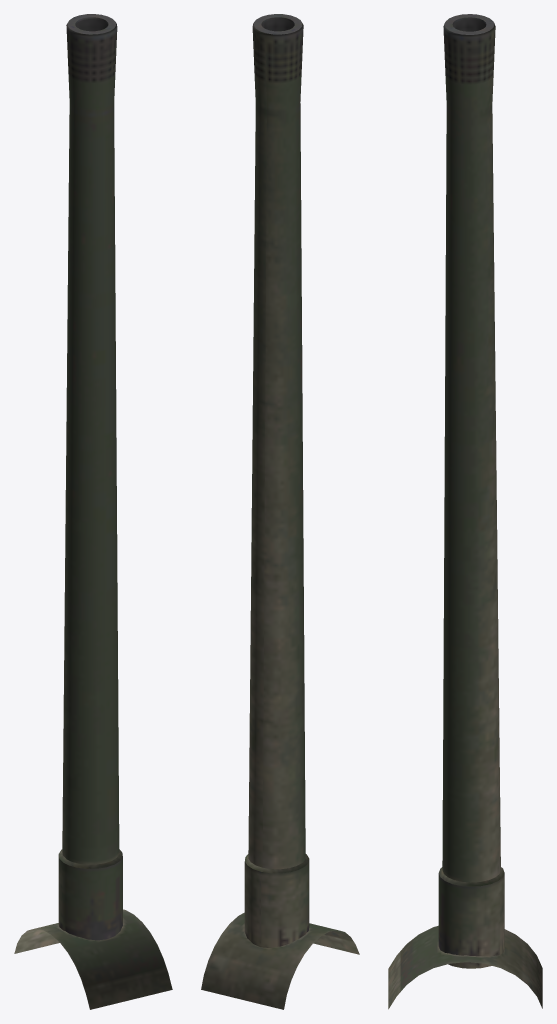
File: Gun_02.glb
3 views of the same model, side by side, from view 1: azimuth 30°, elevation 25°; view 2: azimuth 150°, elevation 25°; view 3: azimuth 270°, elevation 25° (orthographic).
Parts seen in each view (by area): view 1: set_0_group_0; view 2: set_0_group_0; view 3: set_0_group_0.
Boxes of the visible parts, x1=… form: set_0_group_0: x1=14, y1=14, x2=172, y2=1009; set_0_group_0: x1=201, y1=14, x2=359, y2=1009; set_0_group_0: x1=388, y1=14, x2=542, y2=1009.
Bounding box in the file's own units: 0.1824 × 2 × 0.2894.
1 material, 1 textured.
